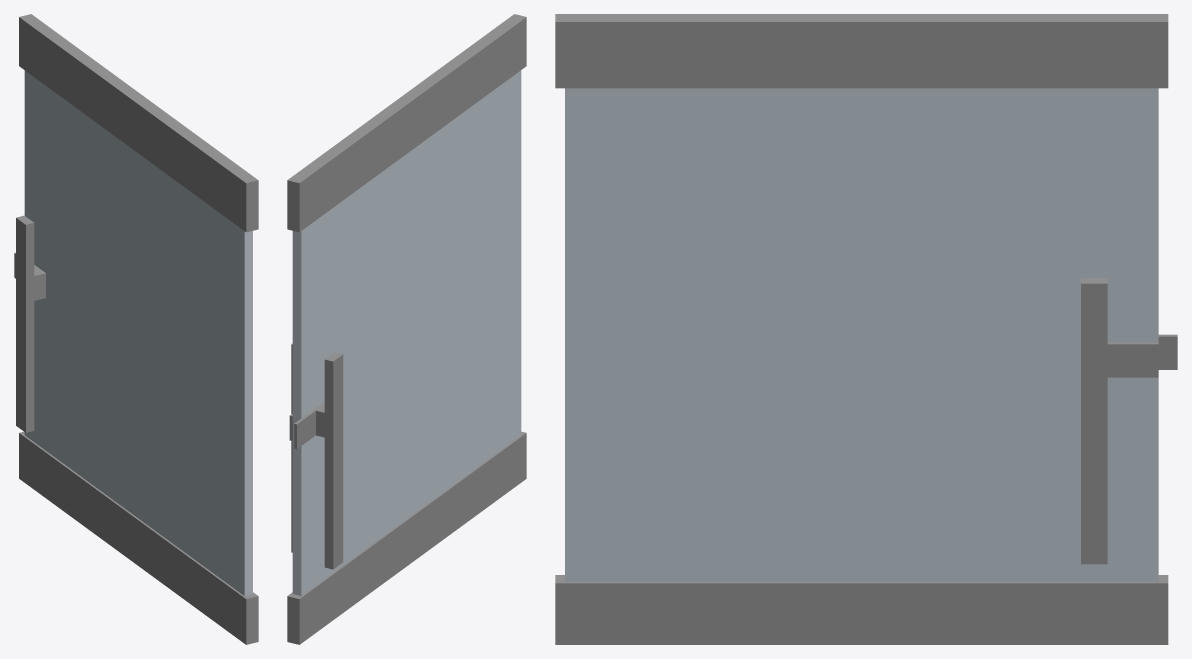
File: fbx_CVS_door.fbx
3 renders of one model, left to right at view 1: azimuth 30°, elevation 25°; view 2: azimuth 150°, elevation 25°; view 3: azimuth 270°, elevation 25°, orthographic. The views are drawn at different scales.
Visible parts, largest first — view 1: fbx_CVS_door; view 2: fbx_CVS_door; view 3: fbx_CVS_door.
Part boxes in pixels (x1,y1,x2,y2): fbx_CVS_door: [14, 14, 258, 644]; fbx_CVS_door: [287, 14, 526, 644]; fbx_CVS_door: [555, 14, 1177, 644].
Size of the model in its own units: 0.2032 by 1.82 by 1.65.
1 material, 1 textured.
